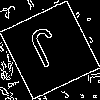J: (25, 25, 69, 78)
